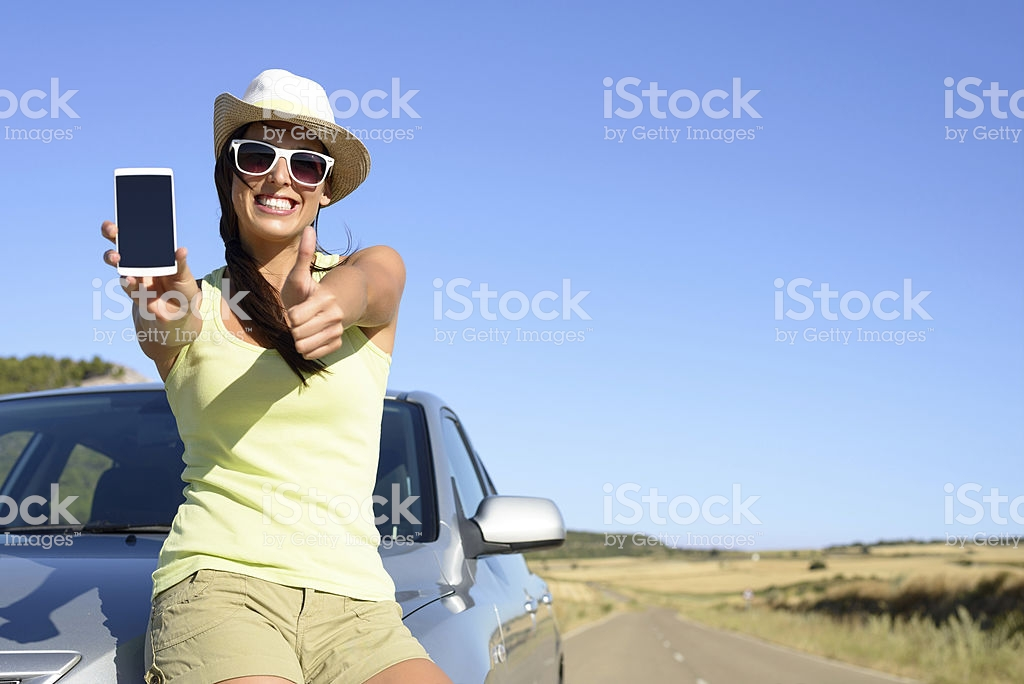thumbsup: (279, 225, 346, 362)
